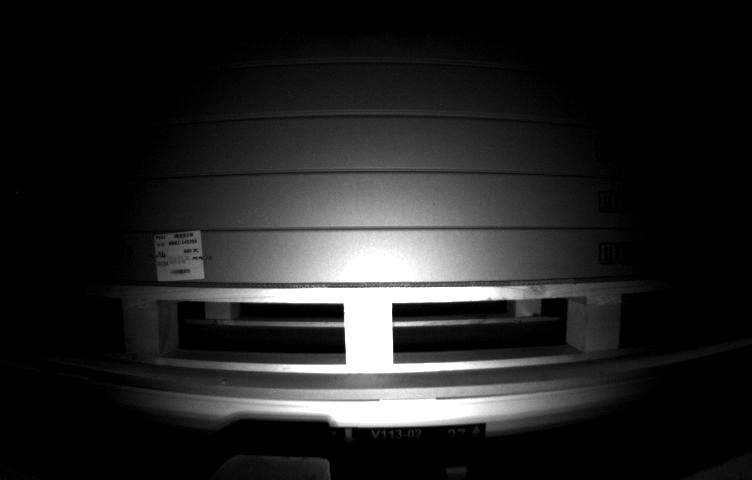True Barcode: (153, 232, 204, 279)
